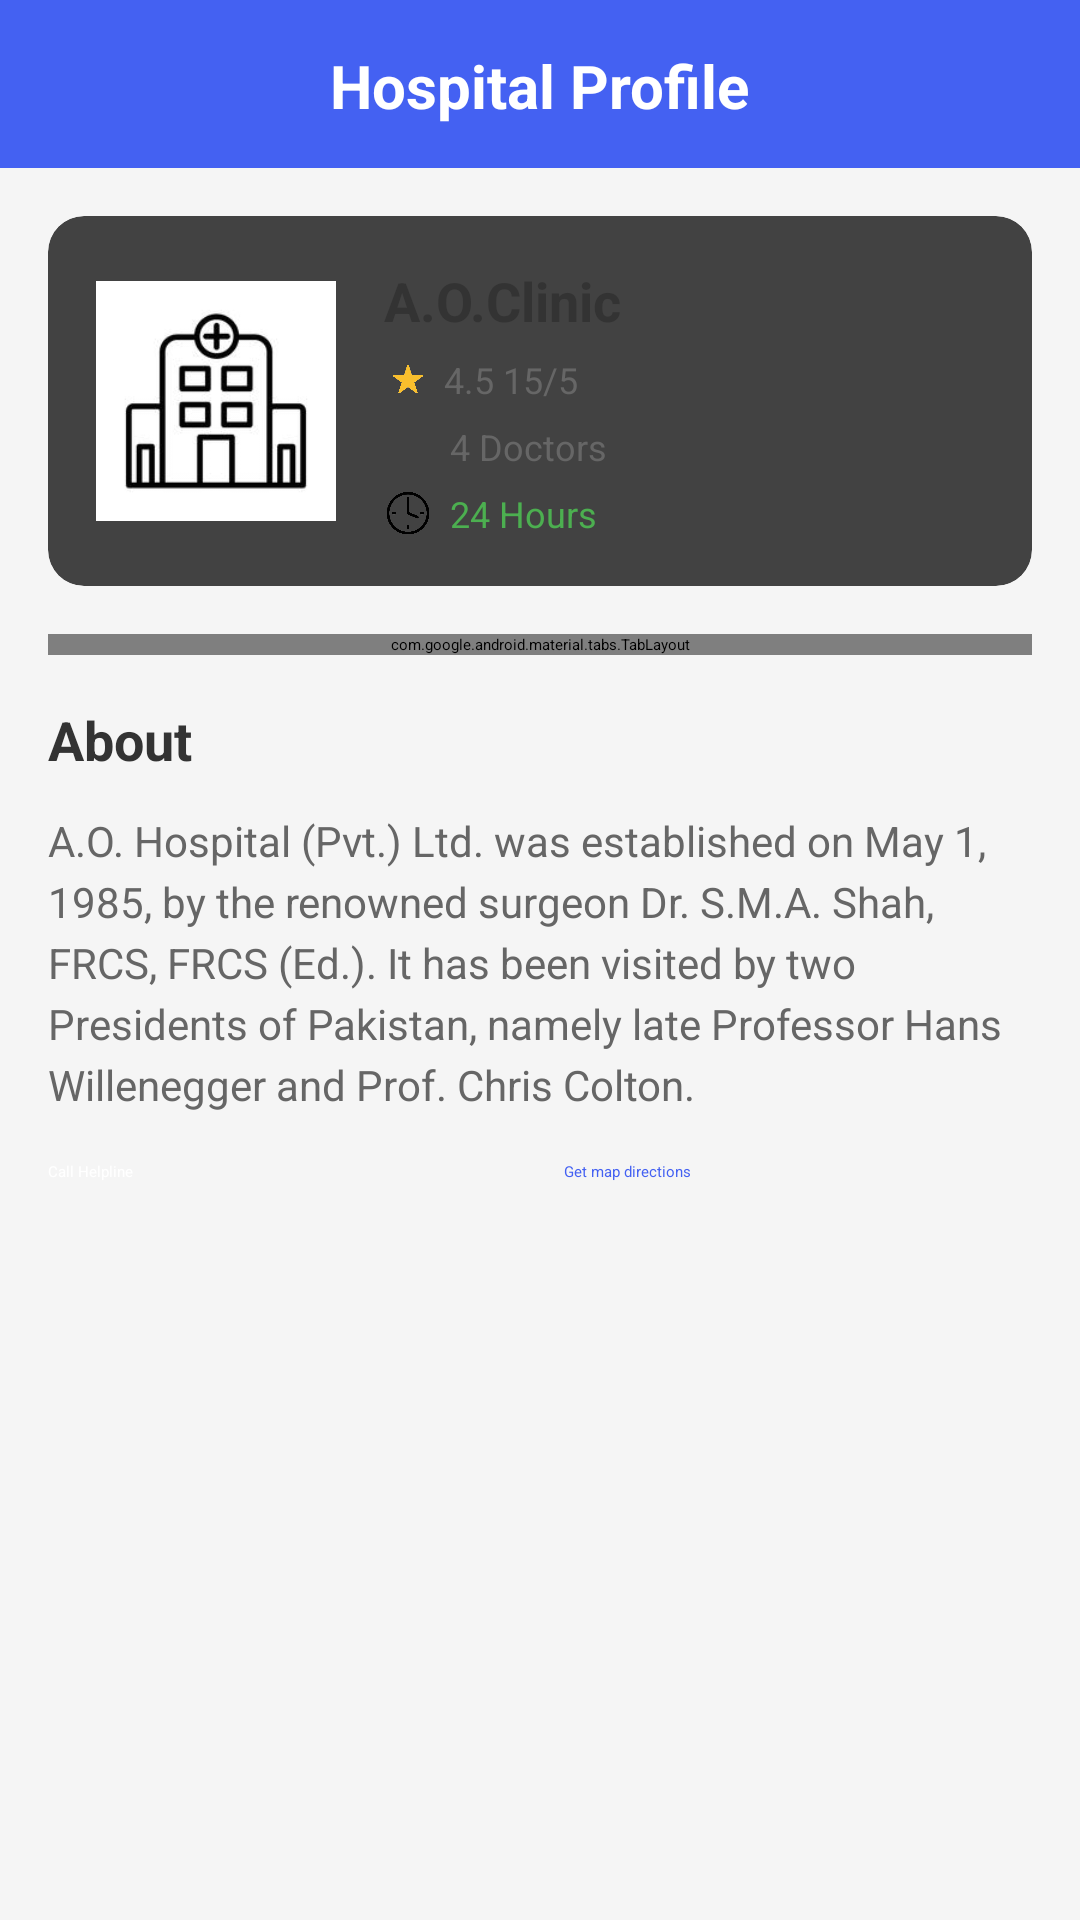

Named icons in this screenshot (1080px×1920px) and their centers, point (x, y):
clock: point (408, 513)
hospital: point (216, 401)
star: point (408, 379)
